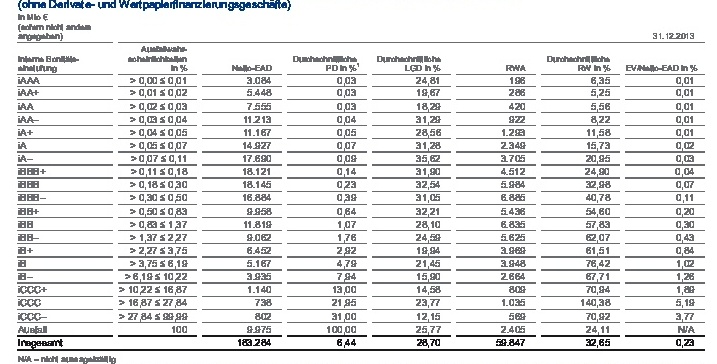table: (0, 0, 717, 364)
